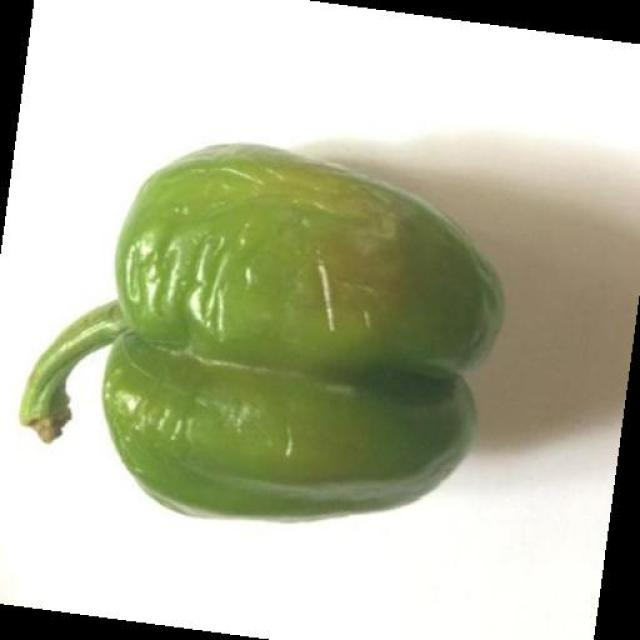Stale_Capsicum: (130, 149, 452, 516)
